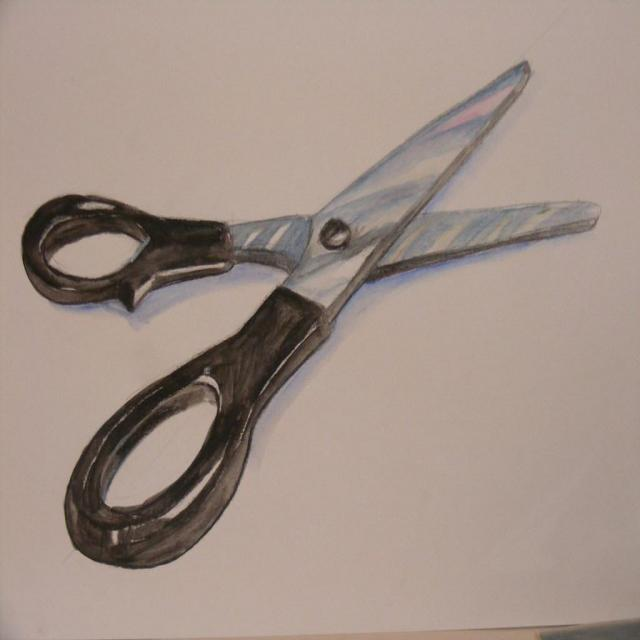scissor: (17, 58, 604, 570)
